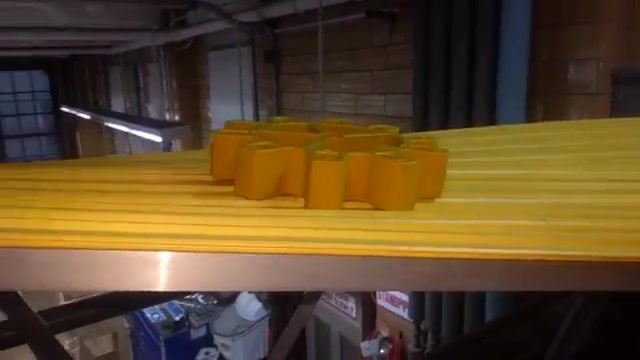gear: (204, 108, 456, 216)
